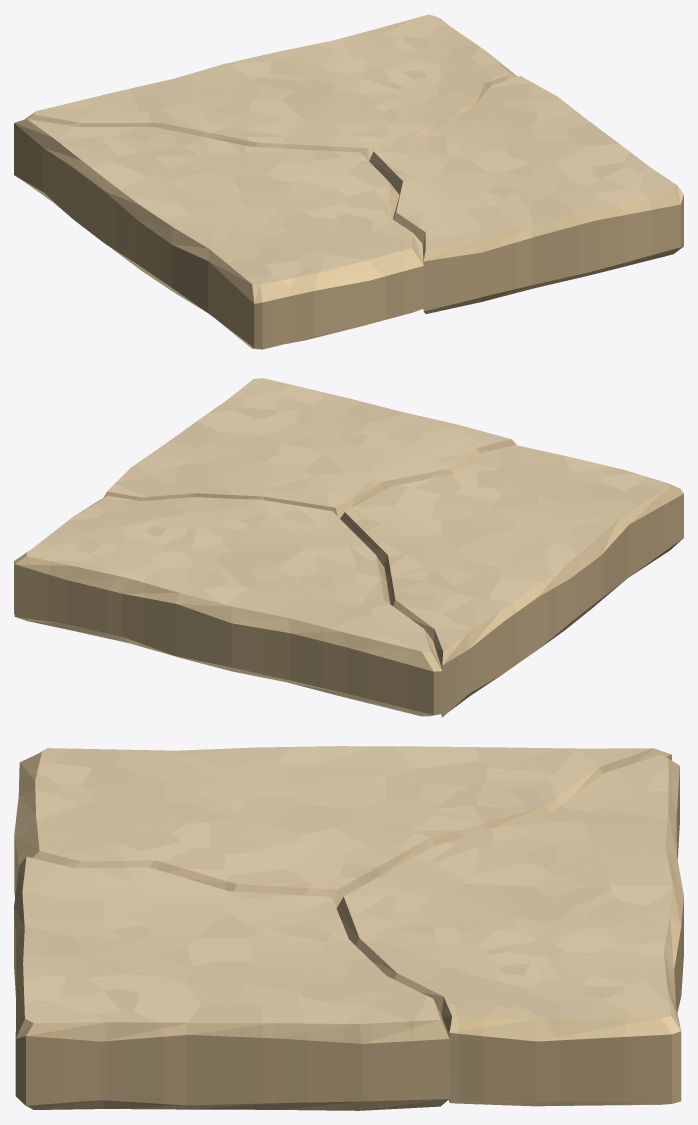
The model's file is tile_a_fragments.glb.
3 views of the same model, one above another, from view 1: azimuth 30°, elevation 25°; view 2: azimuth 150°, elevation 25°; view 3: azimuth 270°, elevation 25° (orthographic). The views are drawn at different scales.
Parts seen in each view (by area): view 1: fragment_a_03, fragment_a_01, fragment_a_02; view 2: fragment_a_02, fragment_a_03, fragment_a_01; view 3: fragment_a_01, fragment_a_02, fragment_a_03.
Boxes of the visible parts, bbox=[...] form: fragment_a_03: bbox=[14, 119, 423, 349]; fragment_a_01: bbox=[369, 76, 683, 313]; fragment_a_02: bbox=[25, 14, 517, 160]; fragment_a_02: bbox=[14, 496, 442, 716]; fragment_a_03: bbox=[340, 445, 683, 717]; fragment_a_01: bbox=[103, 378, 516, 518]; fragment_a_01: bbox=[14, 856, 449, 1110]; fragment_a_02: bbox=[336, 754, 683, 1106]; fragment_a_03: bbox=[14, 746, 671, 908].
Bounding box in the file's own units: 2.8 × 0.4 × 2.8.
3 materials, 3 textured.
